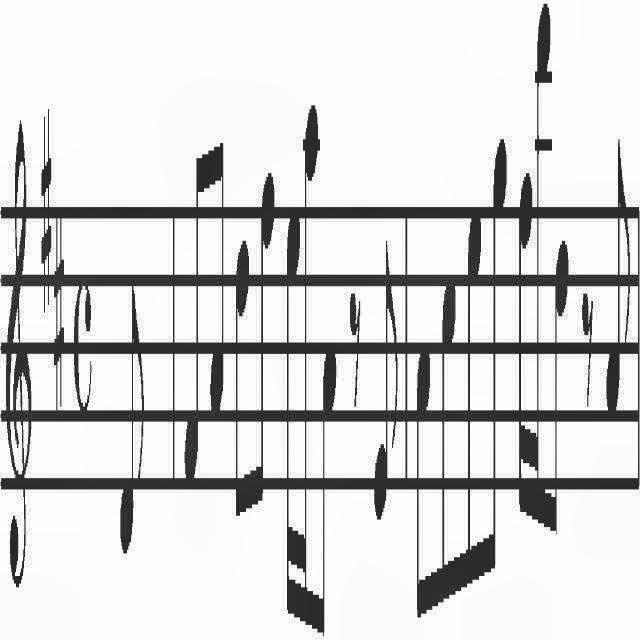Bass-clef: (0, 86, 32, 640)
Diez: (41, 86, 54, 326), (55, 202, 65, 406)
Eighth-note: (115, 240, 149, 584), (368, 220, 402, 552), (176, 116, 202, 507), (488, 104, 508, 610), (434, 239, 458, 623), (603, 112, 629, 444), (465, 172, 483, 640), (256, 150, 276, 542), (206, 104, 228, 458), (550, 216, 570, 576), (232, 226, 250, 558), (413, 331, 430, 640), (322, 311, 338, 639)
Eighth-rest: (582, 254, 596, 442), (349, 271, 363, 413)
Sixteenth-note: (532, 0, 550, 564), (299, 79, 317, 640), (512, 144, 534, 556), (283, 182, 301, 626)
